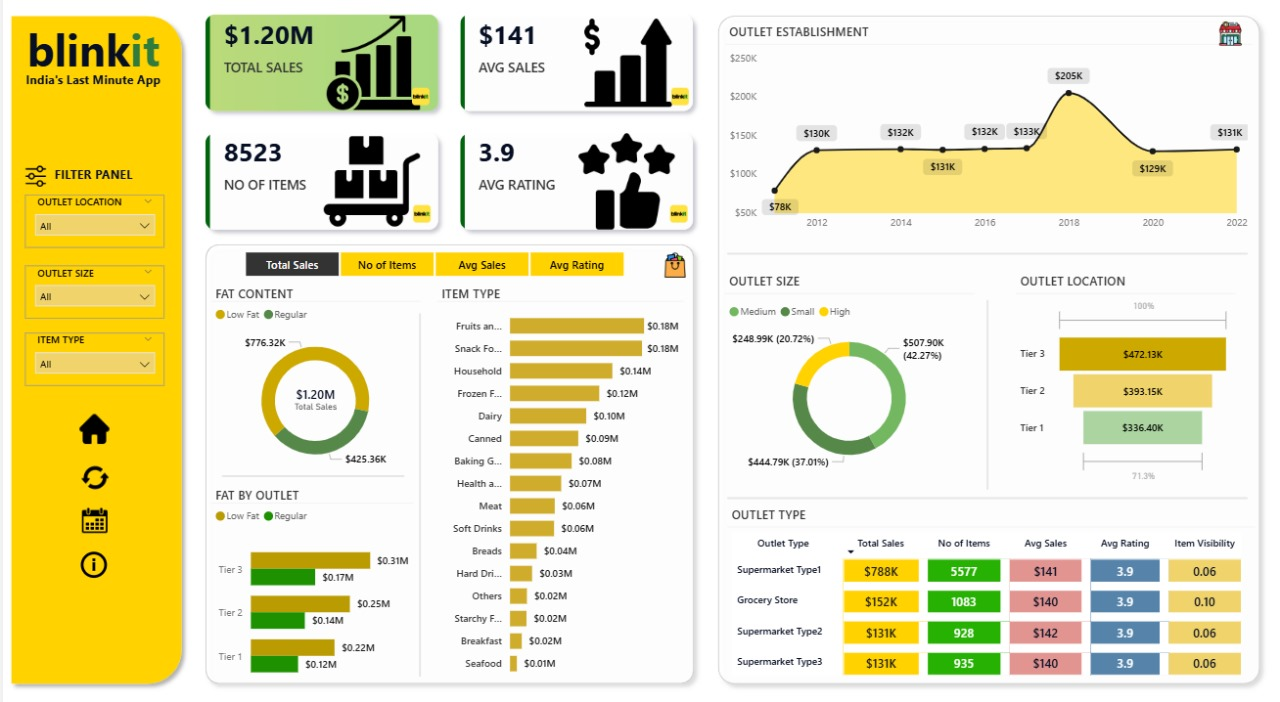

Layout of this report page (visuals, bound fields, positions):
{"tool":"powerbi","page":{"name":"Home","canvas":[1400,800],"ordinal":0},"visuals":[{"type":"shape","box":[0,25.3,205,750.7],"z":0},{"type":"textbox","box":[0,33,198.1,82.1],"z":1000},{"type":"cardVisual","fields":{"Data":["BlinkIT Grocery Data.Total Sum Sales","BlinkIT Grocery Data.Average Sales","BlinkIT Grocery Data.No of Items","BlinkIT Grocery Data.Avg Rating"]},"box":[204.8,15.8,569.7,270.8],"z":2000},{"type":"image","box":[71.4,466.3,58.7,42.6],"z":3000},{"type":"image","box":[74.4,521.1,52.1,39.7],"z":4000},{"type":"image","box":[81.8,568.8,38,39.1],"z":5000},{"type":"shape","box":[774.5,25.5,611.7,751.1],"z":6000},{"type":"areaChart","title":"OUTLET ESTABLISHMENT","fields":{"Y":["BlinkIT Grocery Data.Total Sum Sales"],"Category":["BlinkIT Grocery Data.Outlet Establishment Year2"]},"box":[790.6,42.5,578.3,234],"z":7000},{"type":"textbox","box":[0,89.6,198.1,34],"z":8000},{"type":"donutChart","title":"OUTLET SIZE","fields":{"Category":["BlinkIT Grocery Data.Outlet Size"],"Y":["BlinkIT Grocery Data.Total Sum Sales"]},"box":[790.6,316,273.6,224.5],"z":9000},{"type":"funnel","title":"OUTLET LOCATION","fields":{"Category":["BlinkIT Grocery Data.Outlet Location Type"],"Y":["BlinkIT Grocery Data.Total Sum Sales"]},"box":[1110.4,316,240.6,234],"z":10000},{"type":"pivotTable","title":"OUTLET TYPE","fields":{"Rows":["BlinkIT Grocery Data.Outlet Type"],"Values":["BlinkIT Grocery Data.Total Sum Sales","BlinkIT Grocery Data.No of Items","BlinkIT Grocery Data.Average Sales","BlinkIT Grocery Data.Avg Rating","Avg(BlinkIT Grocery Data.Item Visibility)"]},"box":[793.6,572.3,578.7,197.1],"z":11000},{"type":"shape","box":[793.4,284.9,570.8,19.8],"z":12000},{"type":"shape","box":[1064.2,346.2,29.2,208.5],"z":13000},{"type":"shape","box":[212.8,276.6,553.2,500],"z":14000},{"type":"donutChart","title":"FAT CONTENT","fields":{"Y":["BlinkIT Grocery Data.Total Sum Sales"],"Category":["BlinkIT Grocery Data.Item Fat Content"]},"box":[228.3,330.2,229.2,213.2],"z":15000},{"type":"shape","box":[793.4,553.8,570.8,19.8],"z":16000},{"type":"cardVisual","fields":{"Data":["BlinkIT Grocery Data.Total Sum Sales"]},"box":[291.9,428.1,102,54.5],"z":17000},{"type":"slicer","fields":{"Values":["Metric.Metric"]},"box":[240,287.5,464.2,39.6],"z":18000},{"type":"barChart","title":"ITEM TYPE","fields":{"Y":["BlinkIT Grocery Data.Total Sum Sales"],"Category":["BlinkIT Grocery Data.Item Type"]},"box":[475.3,330.2,269.8,438.1],"z":19000},{"type":"shape","box":[442.5,360.4,29.2,399.1],"z":20000},{"type":"clusteredBarChart","title":"FAT BY OUTLET","fields":{"Y":["BlinkIT Grocery Data.Total Sum Sales"],"Category":["BlinkIT Grocery Data.Outlet Location Type"],"Series":["BlinkIT Grocery Data.Item Fat Content"]},"box":[228.3,550.9,221.7,229.2],"z":21000},{"type":"shape","box":[239.6,529.2,200,19.8],"z":22000},{"type":"image","box":[725.5,108.5,33,29.2],"z":23000},{"type":"image","box":[723.6,237.7,33,29.2],"z":24000},{"type":"image","box":[442.5,237.7,33,29.2],"z":25000},{"type":"image","box":[440.6,108.5,33,29.2],"z":26000},{"type":"image","box":[715.6,289.2,41.3,36.9],"z":27000},{"type":"image","box":[1327.5,33.4,36,40.4],"z":28000},{"type":"slicer","fields":{"Values":["BlinkIT Grocery Data.Outlet Location Type"]},"box":[23.7,231.2,153,58],"z":29000},{"type":"slicer","fields":{"Values":["BlinkIT Grocery Data.Outlet Size"]},"box":[23.7,307.7,153,58],"z":30000},{"type":"slicer","fields":{"Values":["BlinkIT Grocery Data.Item Type"]},"box":[23.7,382.4,153,58],"z":31000},{"type":"textbox","box":[36.8,193.4,126.4,31.1],"z":32000},{"type":"image","box":[18.9,184,34.9,53.8],"z":33000},{"type":"textbox","box":[36.8,680.5,125.5,28.8],"z":34000},{"type":"textbox","box":[36.8,697.8,125.5,28.8],"z":35000},{"type":"actionButton","box":[80.6,616.6,38.5,39.7],"z":38000}]}

Visuals, with their boxes on the page's 1400x800 design canvas (x1, y1, x2, y2). These are canvas units, not pixel positions in the 1280x702 screenshot, which may show the page scaled, cropped or inside an application window:
shape: 0/25/205/776
textbox: 0/33/198/115
cardVisual - BlinkIT Grocery Data.Total Sum Sales x BlinkIT Grocery Data.Average Sales: 205/16/774/287
image: 71/466/130/509
image: 74/521/126/561
image: 82/569/120/608
shape: 774/26/1386/777
"OUTLET ESTABLISHMENT" areaChart: 791/42/1369/276
textbox: 0/90/198/124
"OUTLET SIZE" donutChart: 791/316/1064/540
"OUTLET LOCATION" funnel: 1110/316/1351/550
"OUTLET TYPE" pivotTable: 794/572/1372/769
shape: 793/285/1364/305
shape: 1064/346/1093/555
shape: 213/277/766/777
"FAT CONTENT" donutChart: 228/330/458/543
shape: 793/554/1364/574
cardVisual - BlinkIT Grocery Data.Total Sum Sales: 292/428/394/483
slicer - Metric.Metric: 240/288/704/327
"ITEM TYPE" barChart: 475/330/745/768
shape: 442/360/472/760
"FAT BY OUTLET" clusteredBarChart: 228/551/450/780
shape: 240/529/440/549
image: 726/108/758/138
image: 724/238/757/267
image: 442/238/476/267
image: 441/108/474/138
image: 716/289/757/326
image: 1328/33/1364/74
slicer - BlinkIT Grocery Data.Outlet Location Type: 24/231/177/289
slicer - BlinkIT Grocery Data.Outlet Size: 24/308/177/366
slicer - BlinkIT Grocery Data.Item Type: 24/382/177/440
textbox: 37/193/163/224
image: 19/184/54/238
textbox: 37/680/162/709
textbox: 37/698/162/727
actionButton: 81/617/119/656
